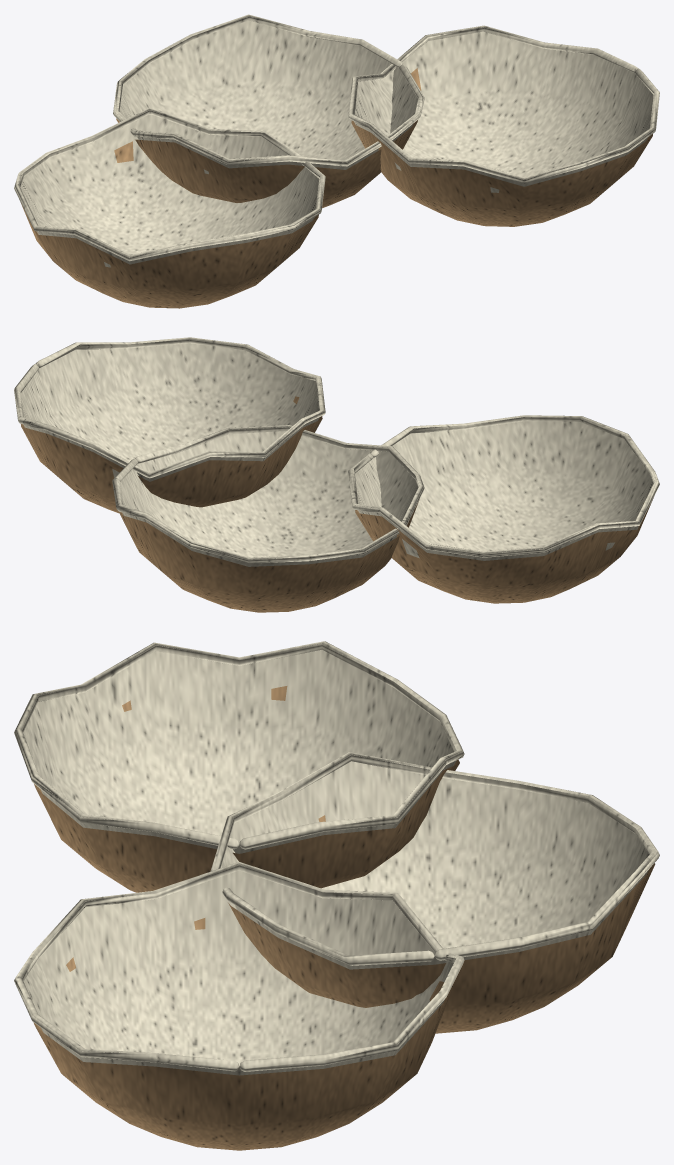
File: food-14-full.glb
3 renders of one model, top to bottom at view 1: azimuth 30°, elevation 25°; view 2: azimuth 150°, elevation 25°; view 3: azimuth 270°, elevation 25°, orthographic. The views are drawn at different scales.
Parts seen in each view (by area): view 1: Food; view 2: Food; view 3: Food.
Boxes of the visible parts, <box> form: Food: <box>14,14,659,308</box>; Food: <box>14,337,659,612</box>; Food: <box>14,641,659,1150</box>.
Bounding box in the file's own units: 0.6172 × 0.1151 × 0.397.
Materials: 1 (1 with a texture image).
